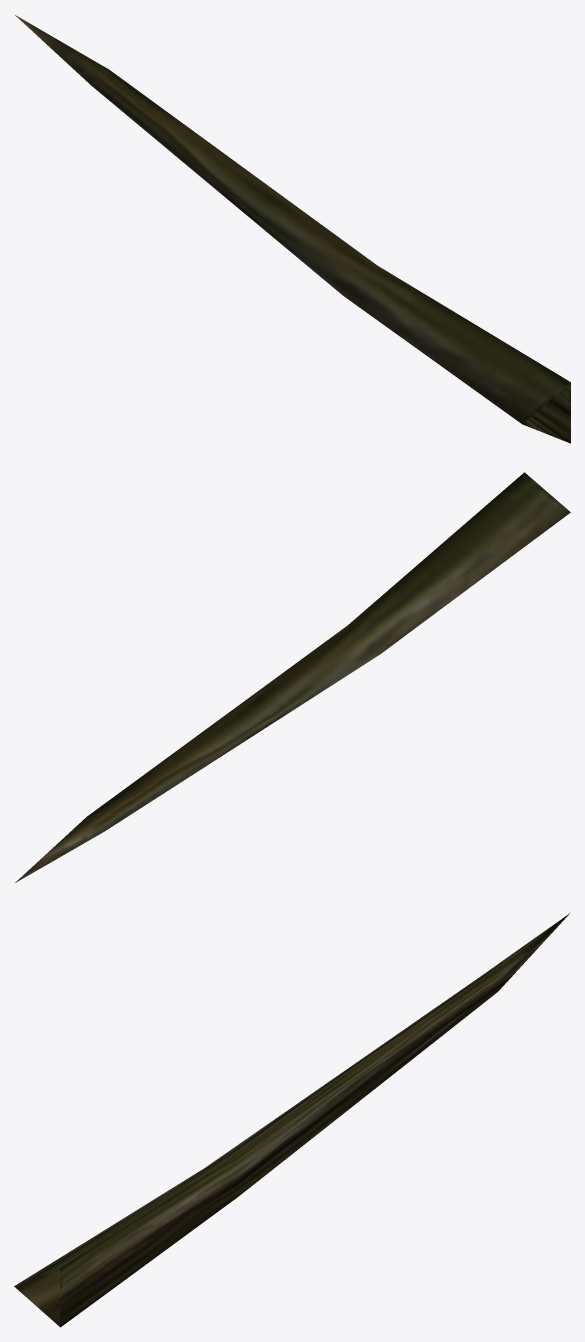
Rendered from MEP_Palm_Part_04.fbx.
3 views of the same model, one above another, from view 1: azimuth 30°, elevation 25°; view 2: azimuth 150°, elevation 25°; view 3: azimuth 330°, elevation 25° (orthographic). The views are drawn at different scales.
Parts seen in each view (by area): view 1: MEP_Palm_Part_04; view 2: MEP_Palm_Part_04; view 3: MEP_Palm_Part_04.
Part boxes in pixels (x1=…): MEP_Palm_Part_04: x1=15, y1=15, x2=570, y2=443; MEP_Palm_Part_04: x1=15, y1=472, x2=570, y2=882; MEP_Palm_Part_04: x1=14, y1=913, x2=569, y2=1327.
Size of the model in its own units: 0.2462 by 0.3131 by 4.78.
